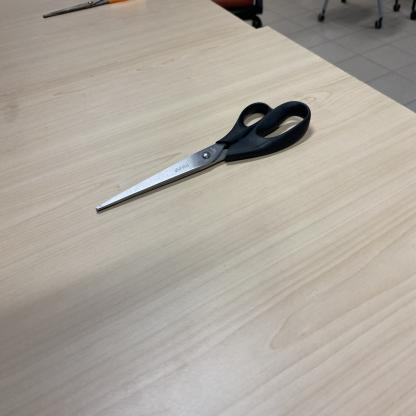scissors: (96, 100, 311, 214), (42, 0, 132, 20)
